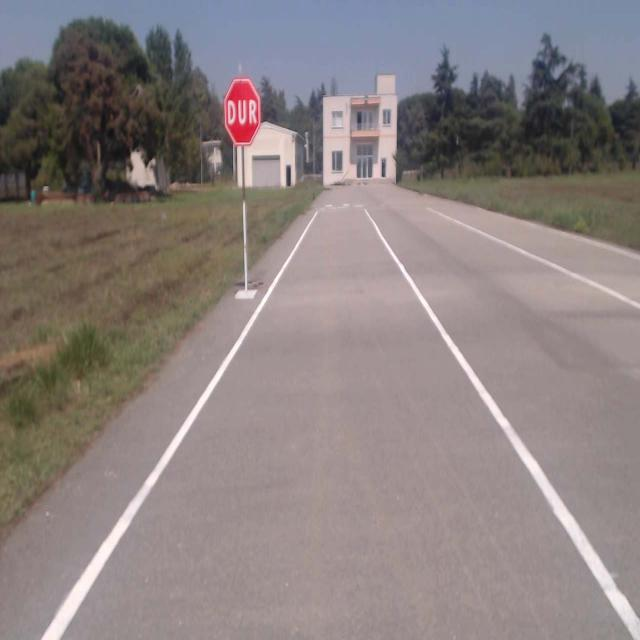dur: (223, 80, 261, 146)
